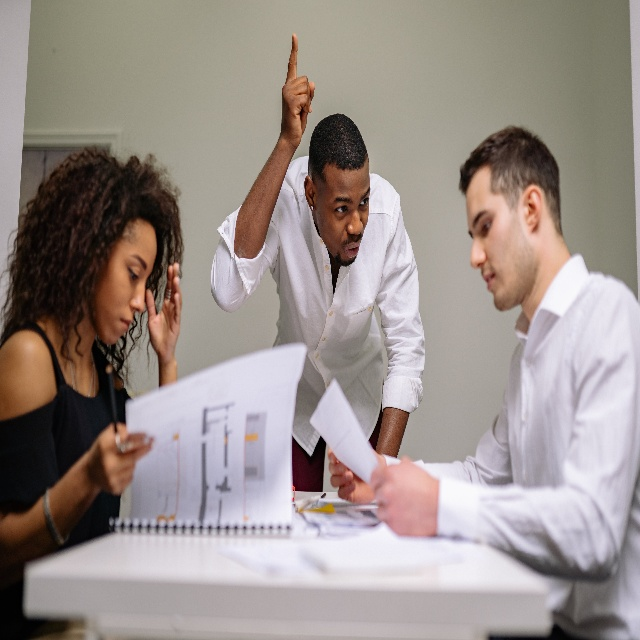Sin_guantes: (370, 456, 440, 537), (89, 422, 154, 496), (281, 33, 315, 151), (145, 262, 181, 363), (328, 447, 376, 506)
